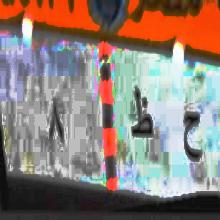7aa: (179, 104, 207, 171)
8: (42, 90, 69, 148)
Thaa: (130, 84, 157, 153)
